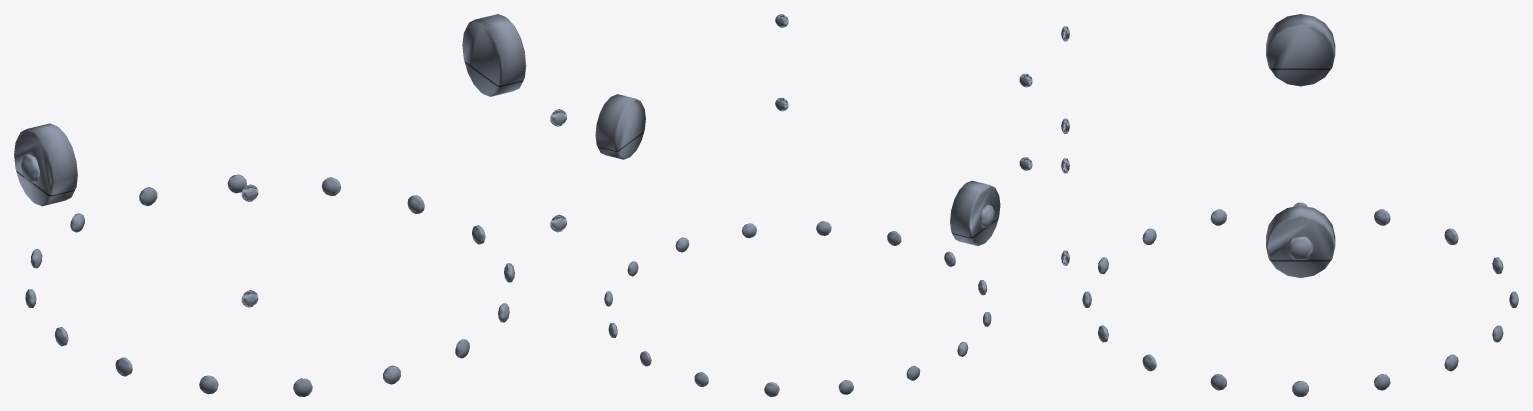
File: Remache_Casco_Acero.fbx
3 views of the same model, side by side, from view 1: azimuth 30°, elevation 25°; view 2: azimuth 150°, elevation 25°; view 3: azimuth 270°, elevation 25° (orthographic). The views are drawn at different scales.
Visible parts, largest first — view 1: Remache_Casco_Acero; view 2: Remache_Casco_Acero; view 3: Remache_Casco_Acero.
Boxes of the visible parts, x1,y1,x2,y2 form: Remache_Casco_Acero: [14, 14, 566, 396]; Remache_Casco_Acero: [595, 14, 1032, 396]; Remache_Casco_Acero: [1061, 14, 1518, 396].
Size of the model in its own units: 2.3 by 1.1 by 2.12.
